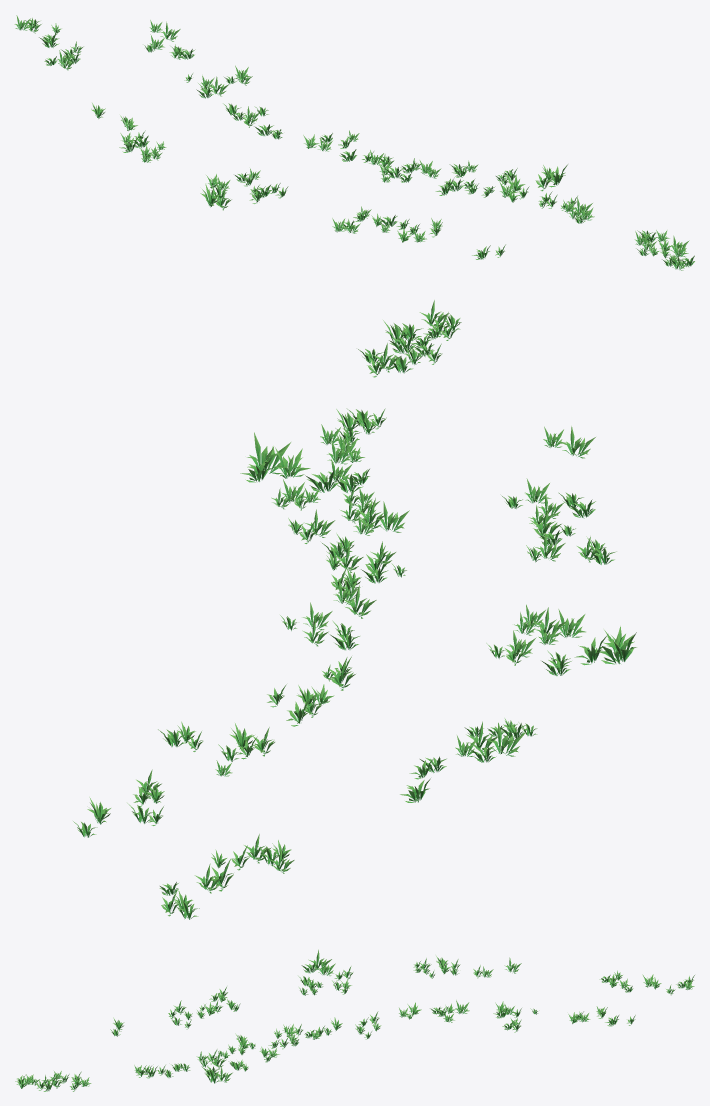
File: area_03_11.fbx
3 renders of one model, top to bottom at view 1: azimuth 30°, elevation 25°; view 2: azimuth 150°, elevation 25°; view 3: azimuth 270°, elevation 25°, orthographic. The views are drawn at different scales.
Parts seen in each view (by area): view 1: area_03_11; view 2: area_03_11; view 3: area_03_11.
Boxes of the visible parts, x1,y1,x2,y2 form: area_03_11: (14, 15, 694, 270); area_03_11: (73, 300, 636, 919); area_03_11: (15, 949, 694, 1091).
Size of the model in its own units: 26.01 by 1.64 by 57.41.
